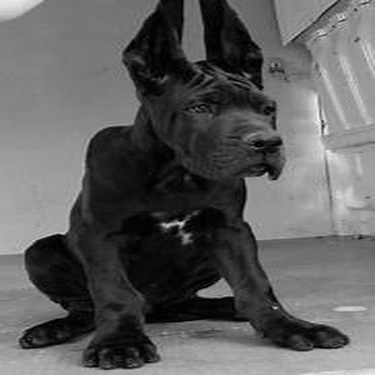dog: (9, 1, 352, 373)
